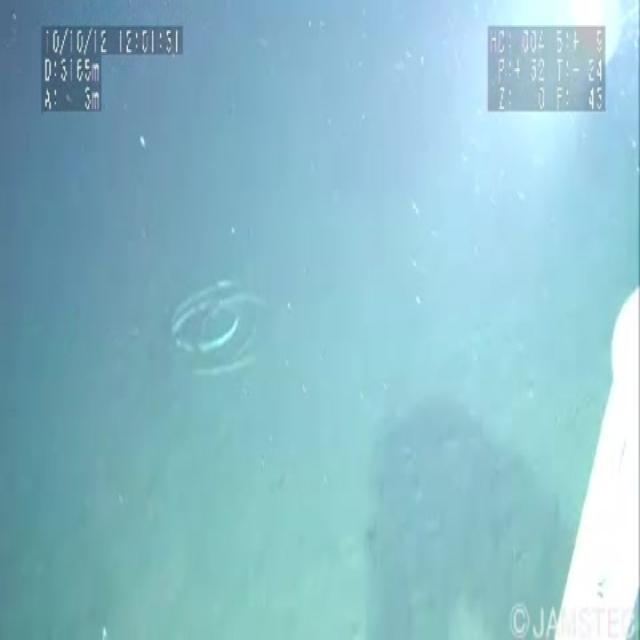Rope: (157, 265, 303, 411)
